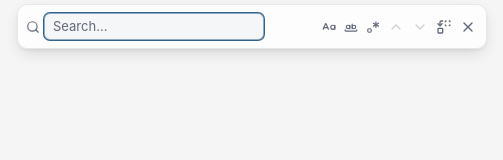
SearchAndReplace › toggles replace row visibility
Check: the element with test id "search-and-replace" is shown, box top-left (17, 4), bottom-right (487, 49)
Check: the field with placeholder "Replace..." is not shown
Note: Click the replace toggle
Click the button titled "Show Replace (Ctrl+H)": [444, 27] box top-left (434, 17), bottom-right (454, 37)
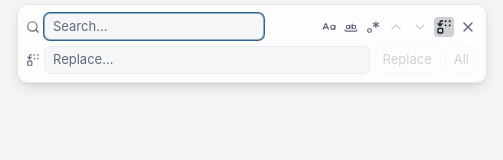
Check: the field with placeholder "Replace..." is shown, box top-left (44, 46), bottom-right (370, 74)
